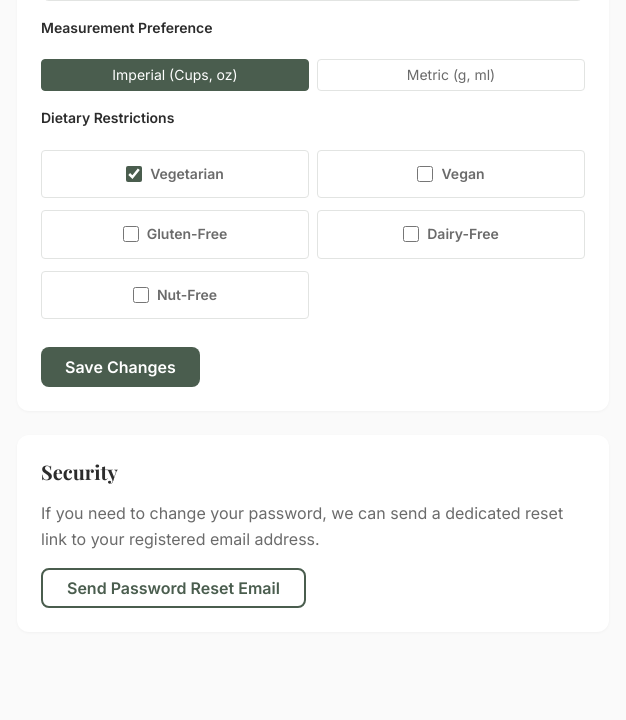
Test: Settings Page › handles error during profile save
(page scrolled)
Click the button "Save Changes" at (120, 367), box 41,347 -> 200,387
(page scrolled)
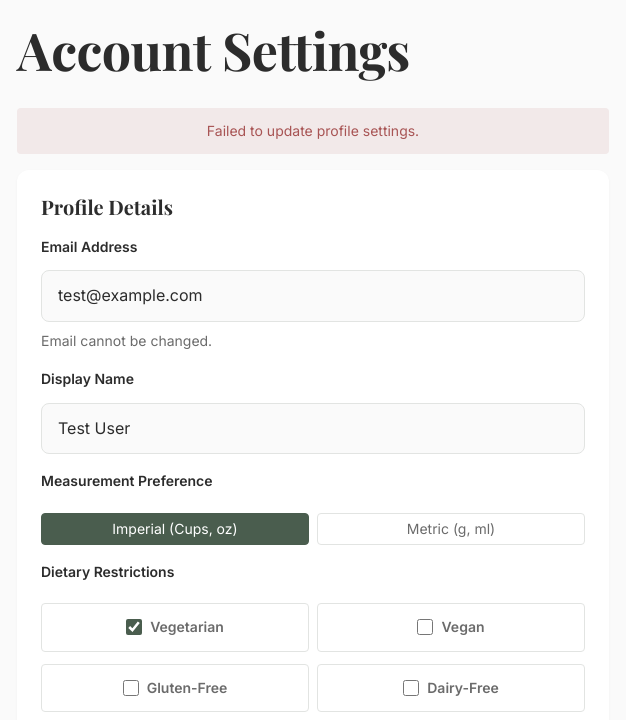
Expected: the text "Failed to update profile settings." is shown, 17,108 -> 609,154
